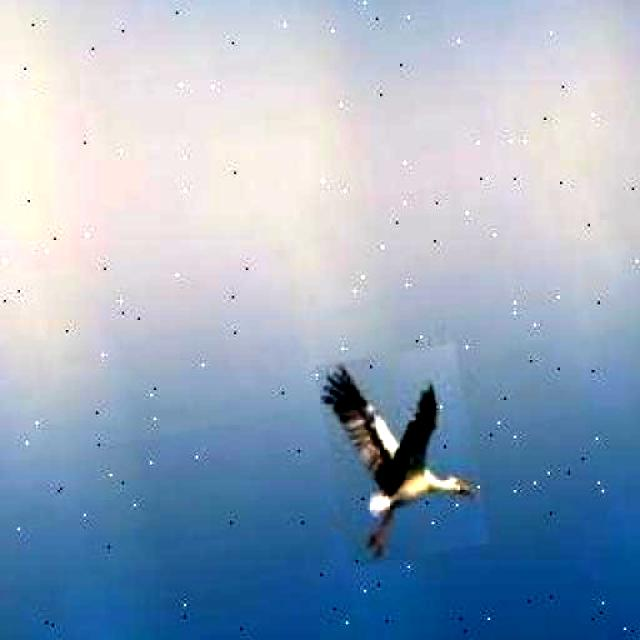airplane: (314, 341, 490, 568)
